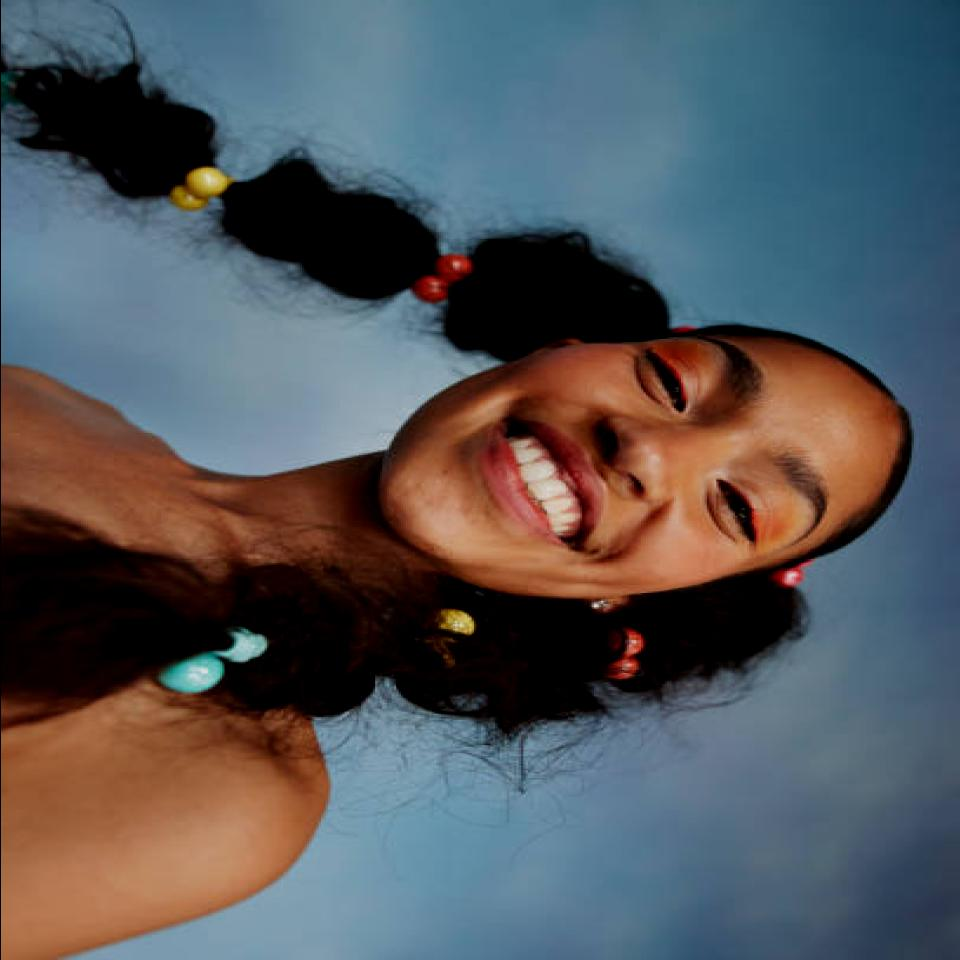Happiness: (424, 350, 848, 586)
